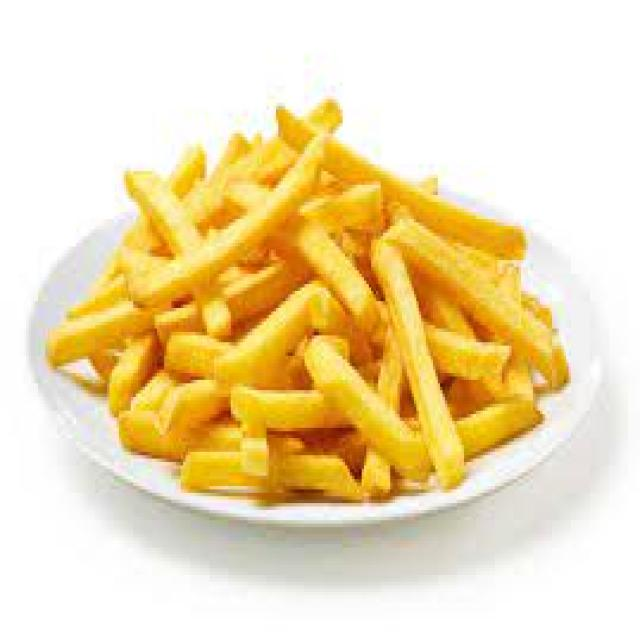fries: (47, 91, 574, 510)
